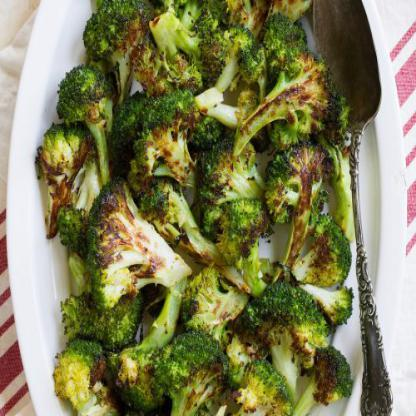broccoli: (34, 0, 358, 415)
